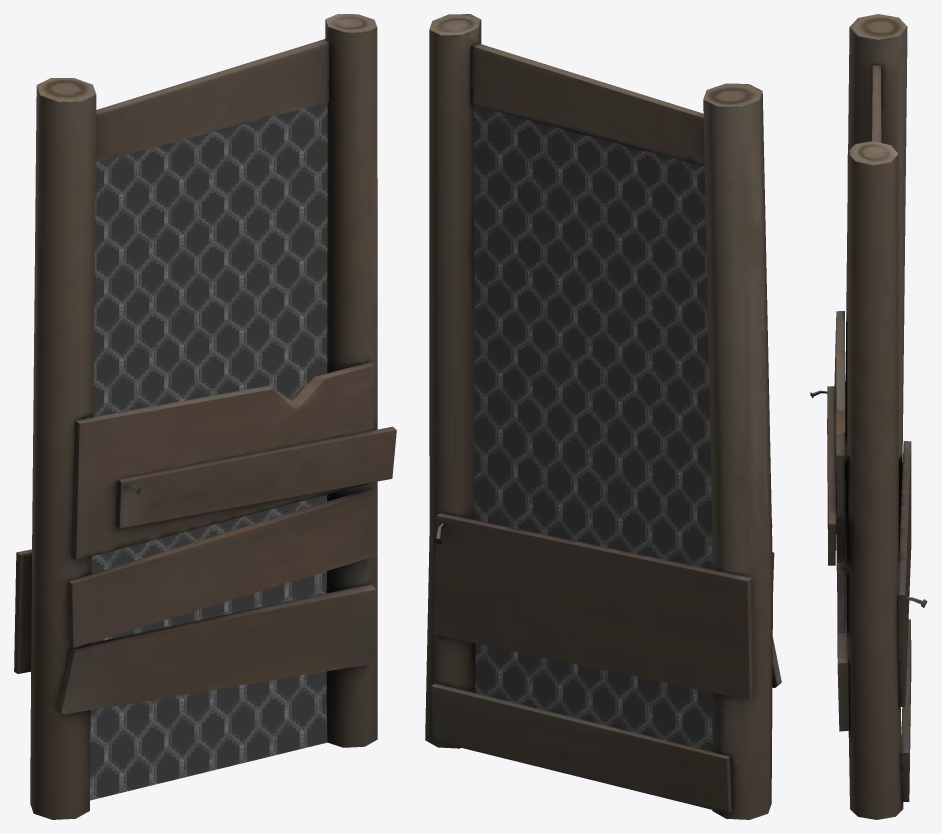
3 renders of one model, left to right at view 1: azimuth 30°, elevation 25°; view 2: azimuth 150°, elevation 25°; view 3: azimuth 270°, elevation 25°, orthographic. The views are drawn at different scales.
Parts seen in each view (by area): view 1: body0_model0_lod0_mesh0, body0_model0_lod0_mesh1; view 2: body0_model0_lod0_mesh0, body0_model0_lod0_mesh1; view 3: body0_model0_lod0_mesh0.
Boxes of the visible parts, x1,y1,x2,y2 form: body0_model0_lod0_mesh0: (14,14,396,819); body0_model0_lod0_mesh1: (90,102,327,800); body0_model0_lod0_mesh0: (425,14,781,819); body0_model0_lod0_mesh1: (473,105,713,751); body0_model0_lod0_mesh0: (810,14,927,819).
Size of the model in its own units: 66.34 by 133 by 21.42.
Materials: 2 (2 with a texture image).
